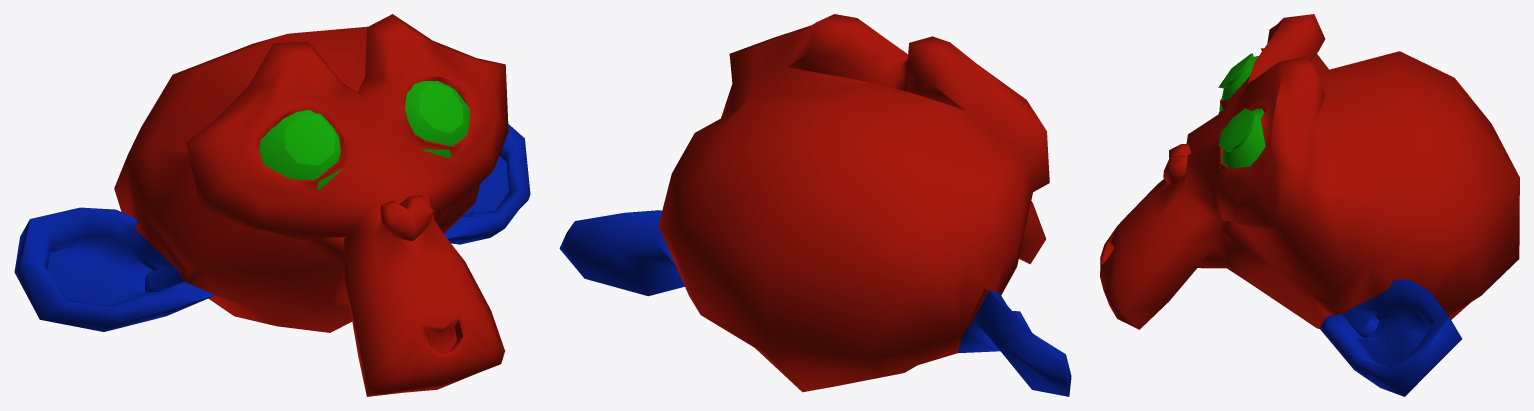
File: suzanne.obj
The picture shows the model from 3 angles, left to right: view 1: azimuth 30°, elevation 25°; view 2: azimuth 150°, elevation 25°; view 3: azimuth 270°, elevation 25°; orthographic projection. The views are drawn at different scales.
Visible parts, largest first — view 1: Monkey; view 2: Monkey; view 3: Monkey.
Boxes of the visible parts, x1=… form: Monkey: x1=14, y1=14, x2=530, y2=396; Monkey: x1=559, y1=14, x2=1071, y2=396; Monkey: x1=1100, y1=14, x2=1519, y2=396.
Bounding box in the file's own units: 2.73 × 1.65 × 2.12.
